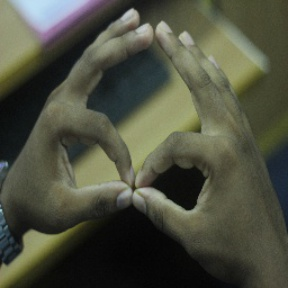B: (46, 71, 223, 234)
